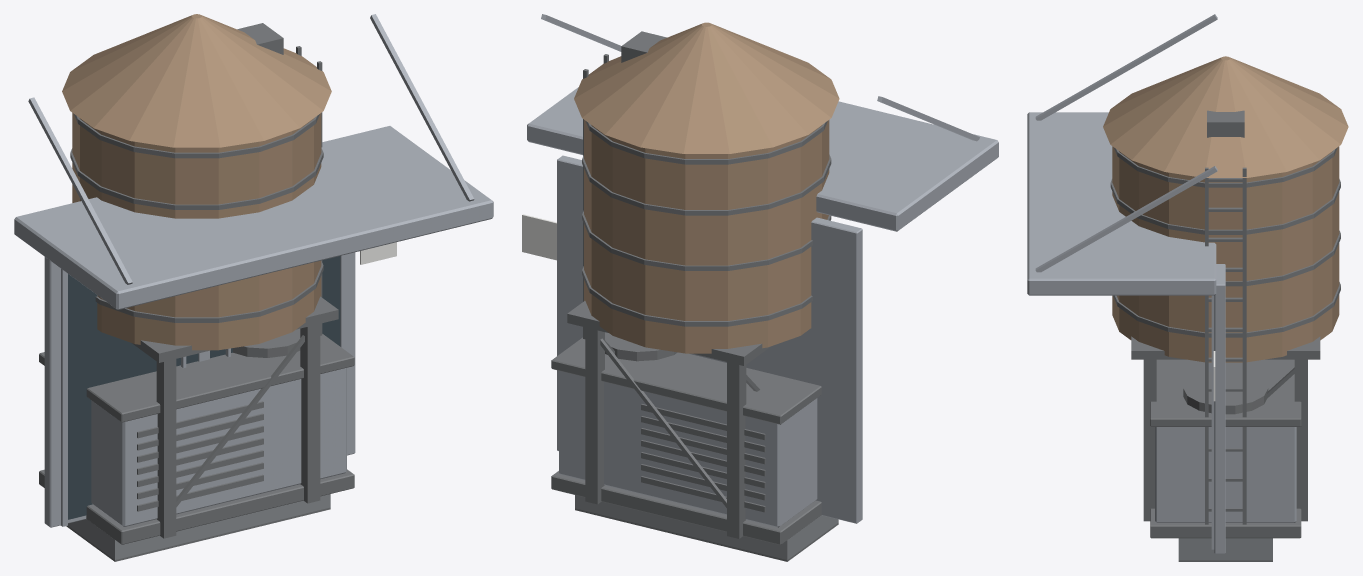
The model's file is metro_core.glb.
3 renders of one model, left to right at view 1: azimuth 30°, elevation 25°; view 2: azimuth 150°, elevation 25°; view 3: azimuth 270°, elevation 25°, orthographic. The views are drawn at different scales.
Visible parts, largest first — view 1: mc_tank_mesh, mc_lobby_mesh, mc_unit_mesh, mc_bridge_mesh; view 2: mc_tank_mesh, mc_lobby_mesh, mc_unit_mesh, mc_bridge_mesh; view 3: mc_tank_mesh, mc_lobby_mesh, mc_unit_mesh, mc_bridge_mesh.
Boxes of the visible parts, box(x1,y1,x2,y2) form: mc_tank_mesh: box(62, 14, 338, 538); mc_lobby_mesh: box(14, 14, 493, 527); mc_unit_mesh: box(39, 328, 354, 544); mc_bridge_mesh: box(66, 494, 330, 561); mc_tank_mesh: box(567, 22, 839, 538); mc_lobby_mesh: box(522, 14, 998, 523); mc_unit_mesh: box(551, 332, 821, 544); mc_bridge_mesh: box(575, 495, 838, 561); mc_tank_mesh: box(1103, 56, 1348, 524); mc_lobby_mesh: box(1027, 14, 1225, 553); mc_unit_mesh: box(1150, 359, 1301, 538); mc_bridge_mesh: box(1178, 538, 1272, 561).
Bounding box in the file's own units: 4.25 × 5.32 × 3.4.
